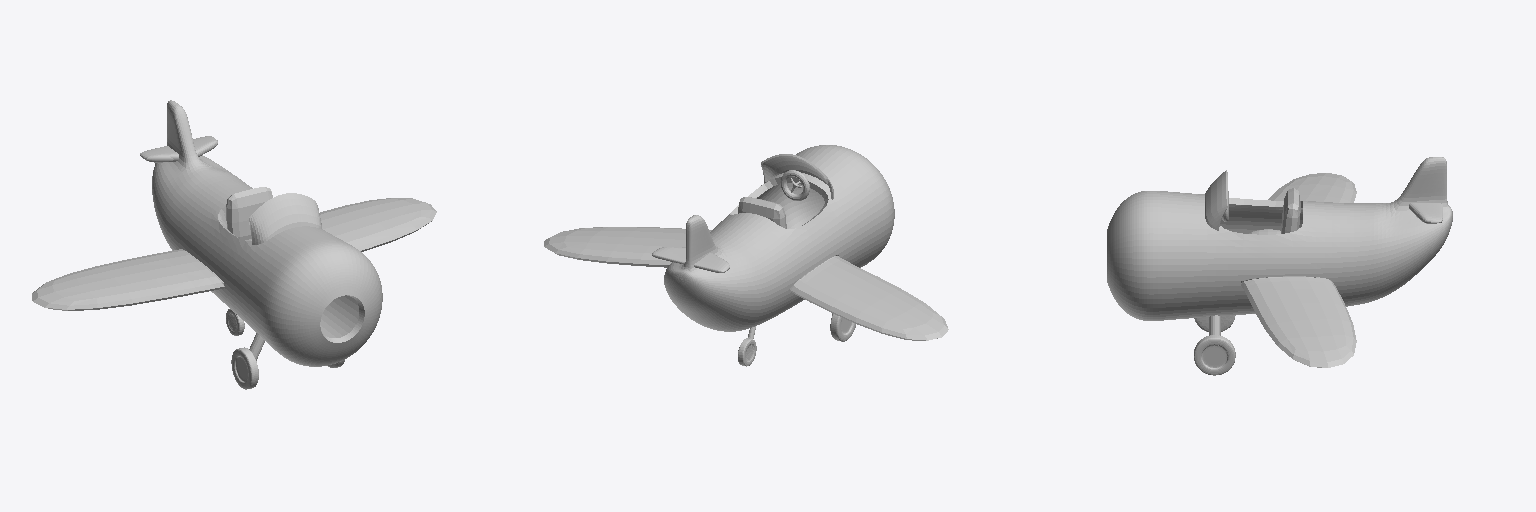
File: plane body.obj
The picture shows the model from 3 angles: view 1: azimuth 30°, elevation 25°; view 2: azimuth 150°, elevation 25°; view 3: azimuth 270°, elevation 25°; orthographic projection.
Visible parts, largest first — view 1: Plane_Body_Sphere.002, Plane, Windscreen_Sphere.007, Back_cushion_Cube.001, Wheels_-_front_Cylinder.001, Fins_Sphere.005; view 2: Plane_Body_Sphere.002, Plane, Windscreen_Sphere.007, Fins_Sphere.005, Back_cushion_Cube.001; view 3: Plane_Body_Sphere.002, Plane, Wheels_-_front_Cylinder.001, Windscreen_Sphere.007, Back_cushion_Cube.001, Fins_Sphere.005.
Boxes of the visible parts, x1,y1,x2,y2 form: Plane_Body_Sphere.002: [152, 100, 382, 366]; Plane: [32, 198, 436, 310]; Windscreen_Sphere.007: [249, 193, 321, 244]; Back_cushion_Cube.001: [226, 187, 272, 239]; Wheels_-_front_Cylinder.001: [231, 347, 344, 389]; Fins_Sphere.005: [140, 136, 217, 162]; Plane_Body_Sphere.002: [664, 145, 894, 331]; Plane: [544, 227, 948, 340]; Windscreen_Sphere.007: [761, 154, 833, 199]; Fins_Sphere.005: [652, 247, 729, 272]; Back_cushion_Cube.001: [738, 197, 786, 228]; Plane_Body_Sphere.002: [1107, 157, 1452, 320]; Plane: [1241, 173, 1356, 367]; Wheels_-_front_Cylinder.001: [1194, 315, 1235, 375]; Windscreen_Sphere.007: [1205, 170, 1227, 230]; Back_cushion_Cube.001: [1281, 188, 1300, 233]; Fins_Sphere.005: [1409, 203, 1442, 223].
Bounding box in the file's own units: 6.64 × 3.09 × 5.